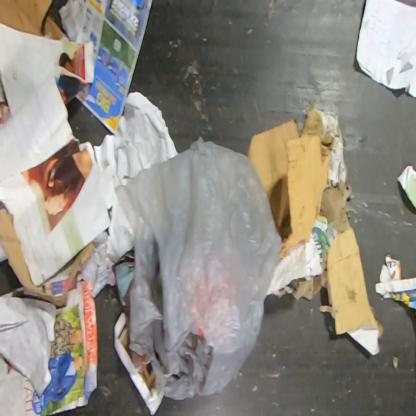cardboard: (245, 107, 384, 358), (0, 203, 96, 307), (0, 0, 71, 42), (374, 252, 416, 310)
soft_plastic: (112, 135, 282, 402)
